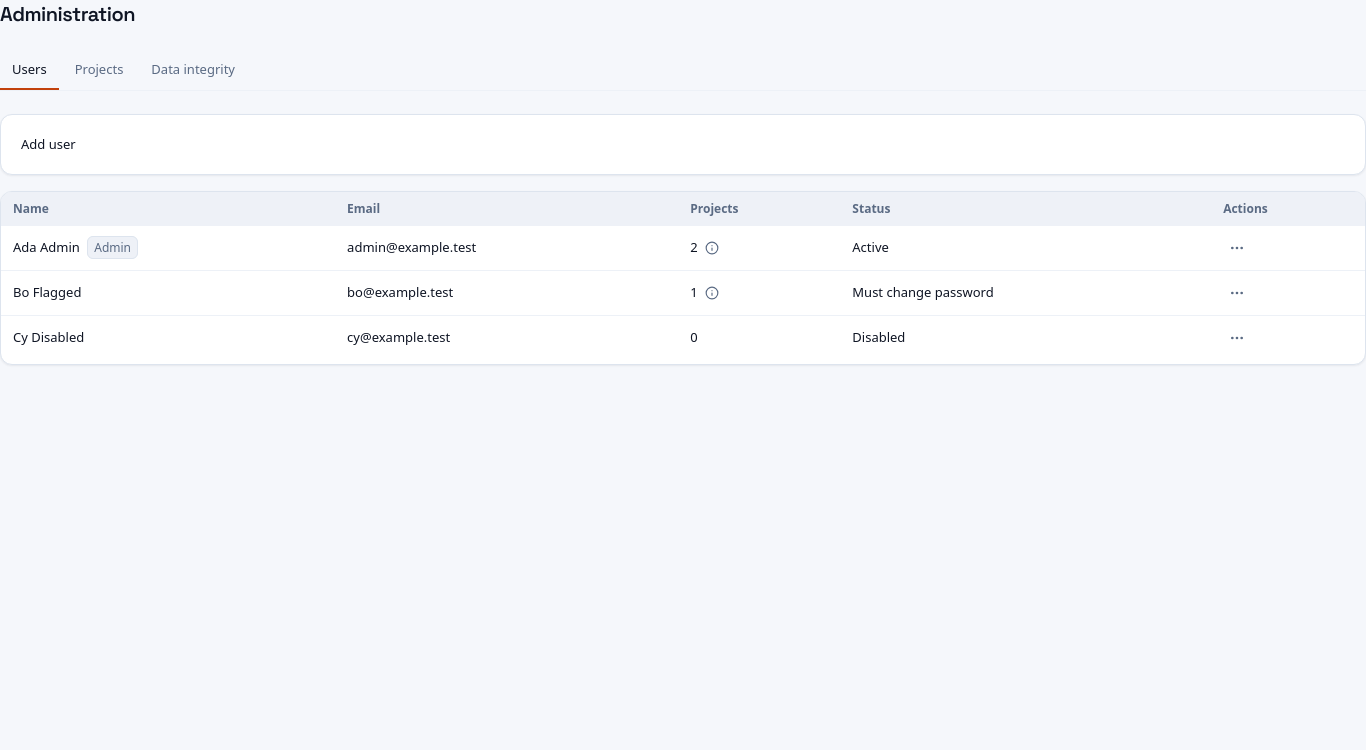
AdminUsers — Add user › starts each project row on the first project not yet chosen, as a Viewer
This screenshot has width=1366, height=750.
Click the heading "Add user": coordinates (48, 144) 21,134 -> 76,152
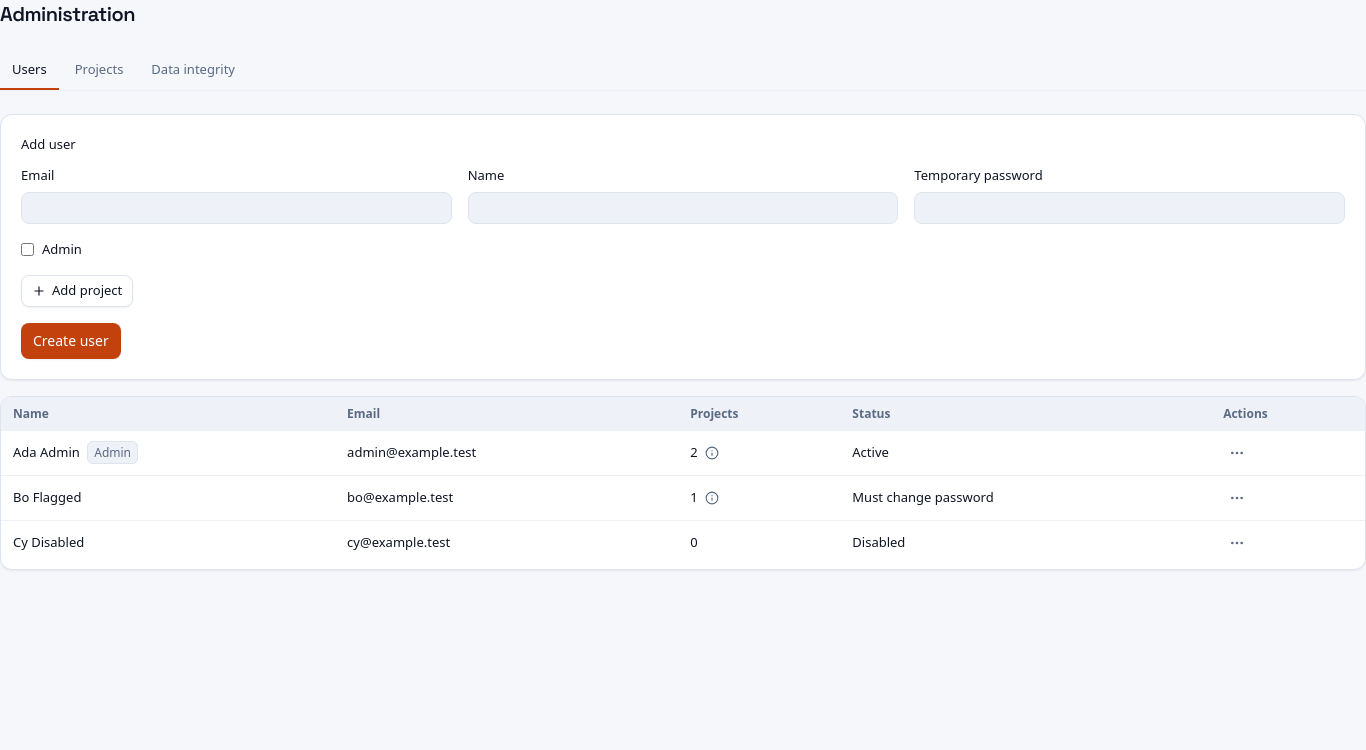
Click the button "Add project": coordinates (77, 291) 21,275 -> 133,307
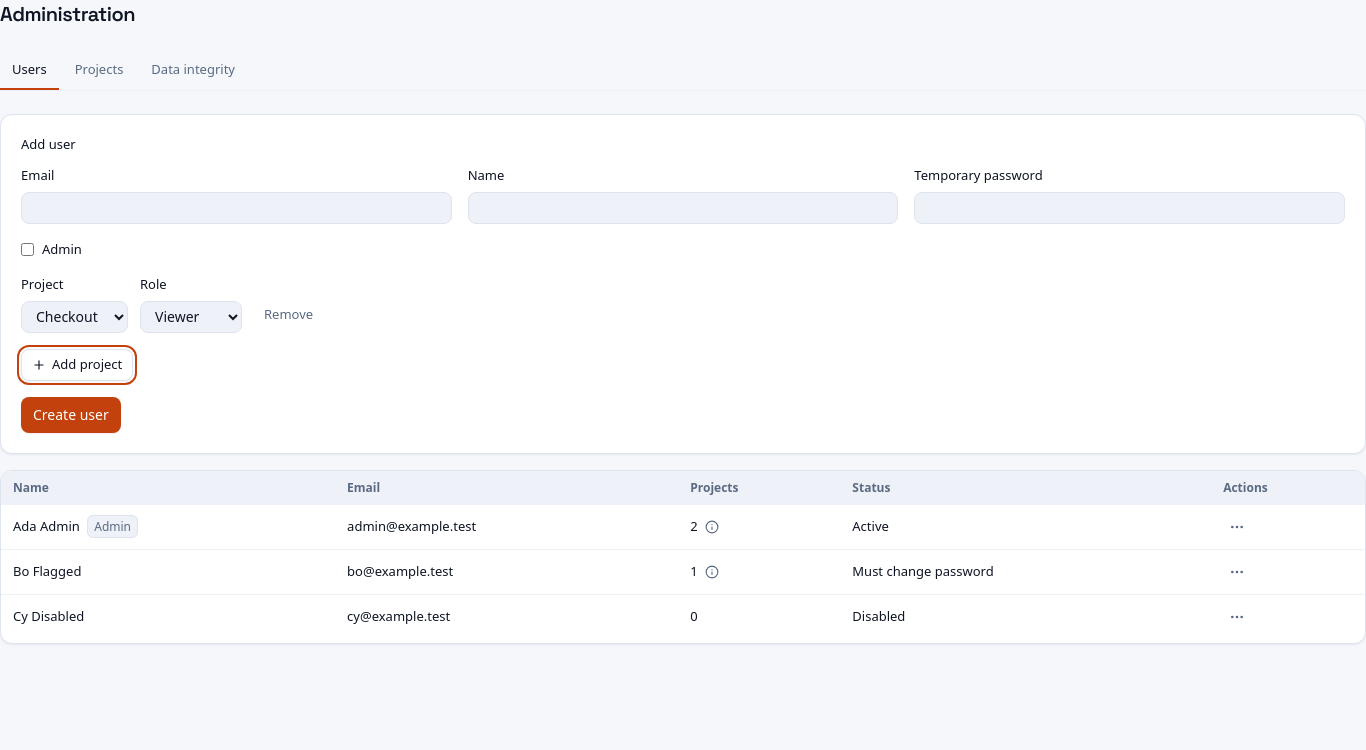
Expected: the dropdown named "Project 1" shows "Checkout", 21,300 -> 128,332
Expected: the dropdown named "Role 1" shows "Viewer", 140,300 -> 242,332
Click the button "Add project": coordinates (77, 364) 21,348 -> 133,380
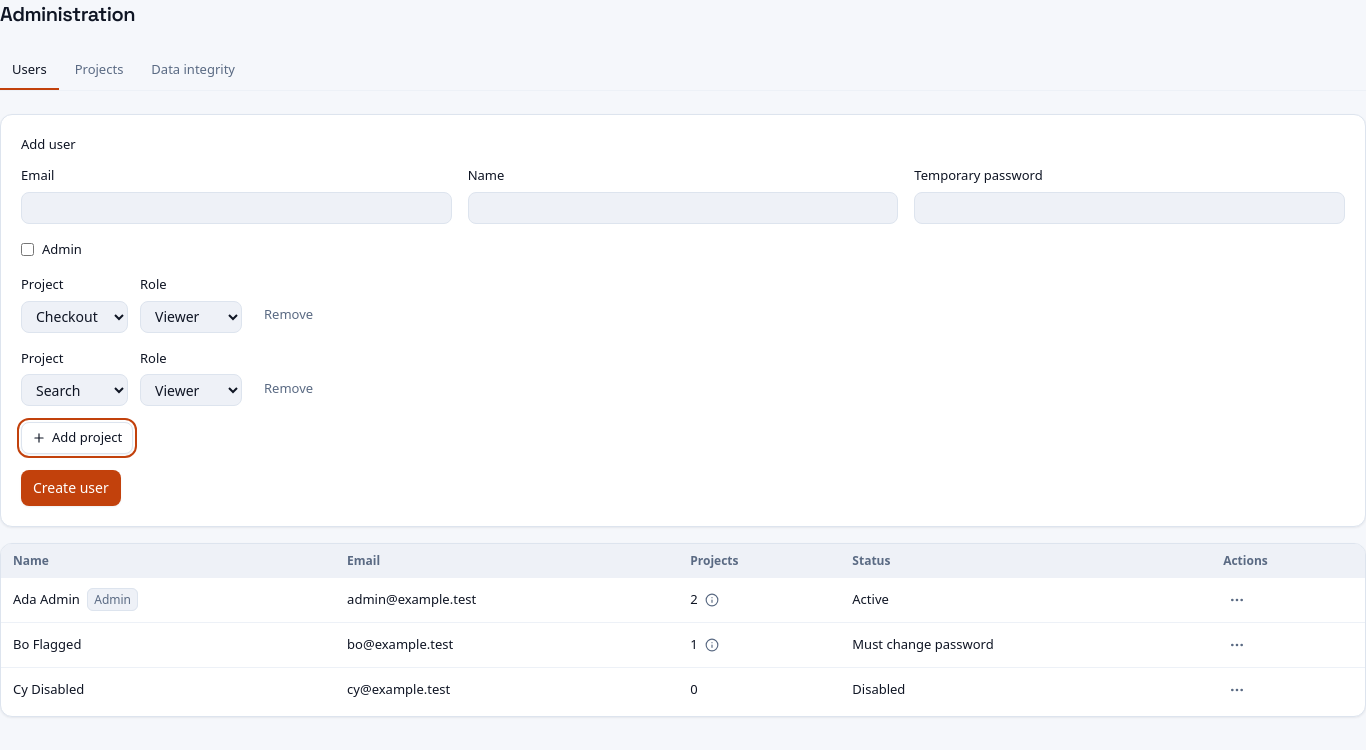
Expected: the dropdown named "Project 2" shows "Search", 21,374 -> 128,406
Expected: the dropdown named "Role 2" shows "Viewer", 140,374 -> 242,406
Select "Payments" in the dropdown named "Project 1": coordinates (74, 316) 21,300 -> 128,332
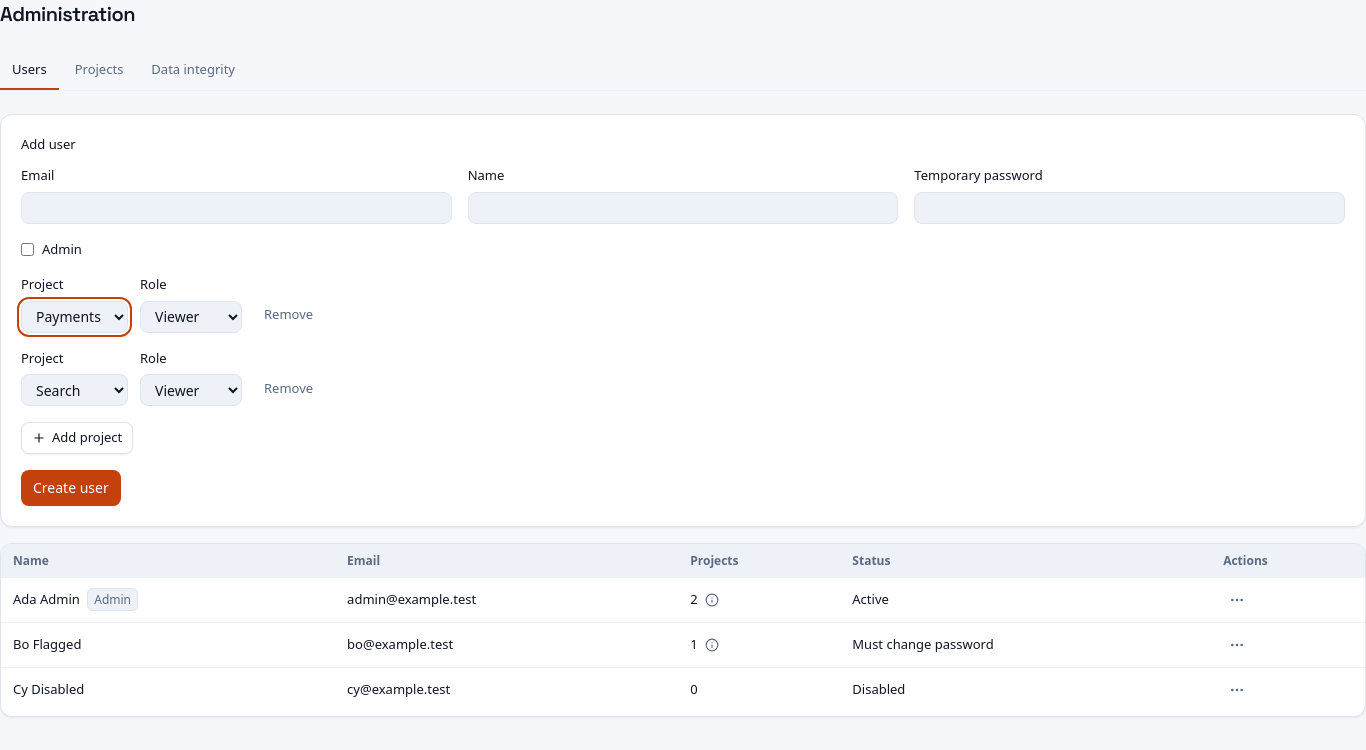
Click the button "Add project": coordinates (77, 438) 21,422 -> 133,454
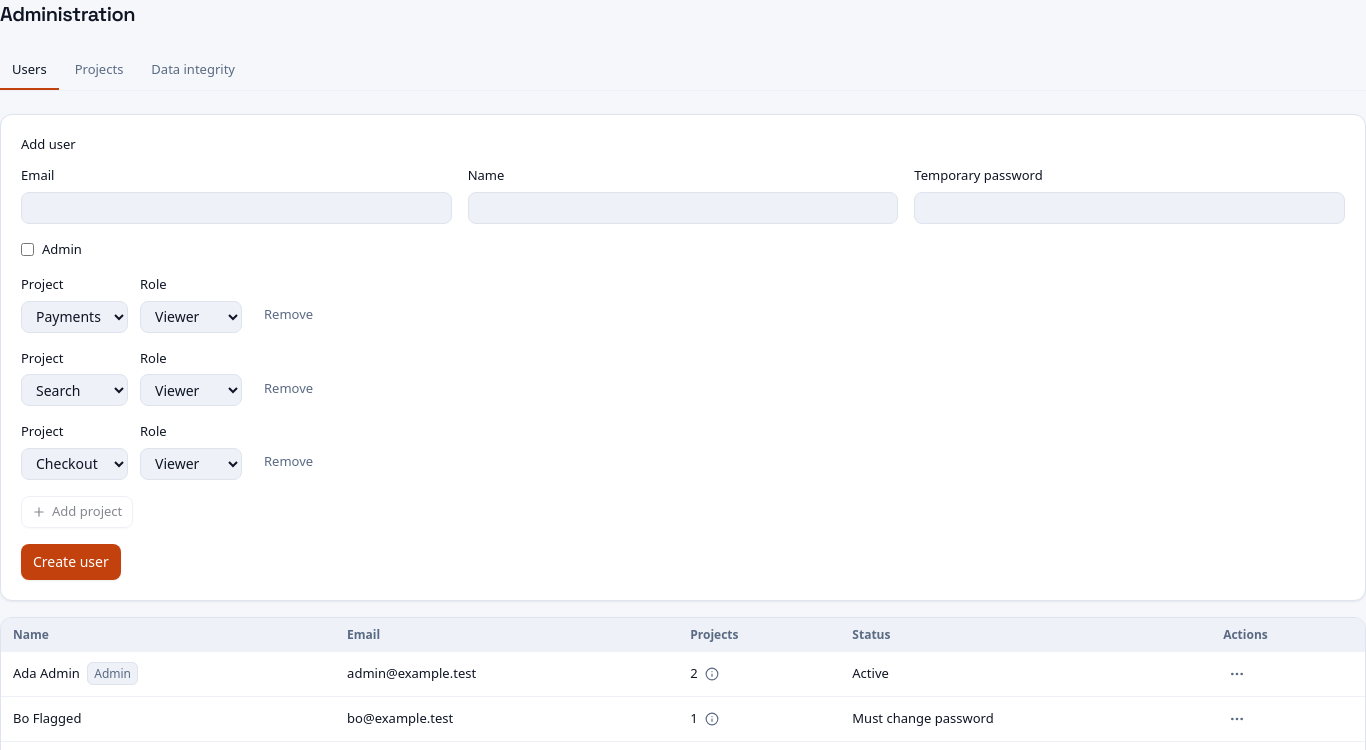
Expected: the dropdown named "Project 3" shows "Checkout", 21,448 -> 128,480
